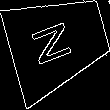N_E: (33, 16, 84, 70)
